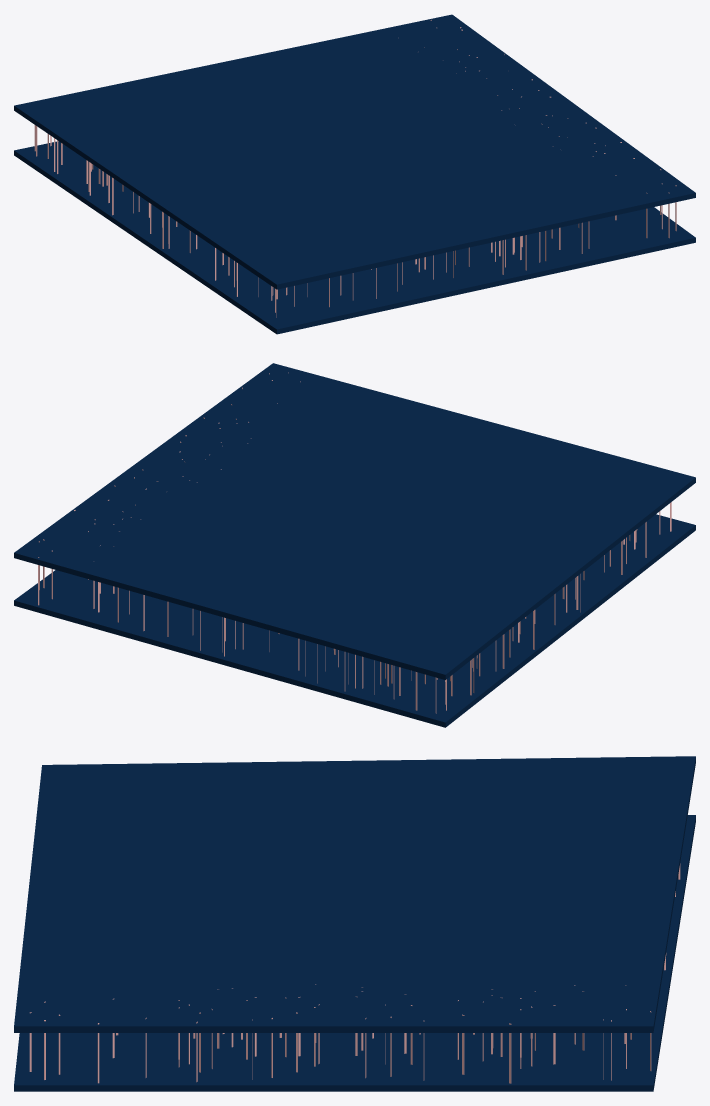
3 views of the same model, one above another, from view 1: azimuth 30°, elevation 25°; view 2: azimuth 150°, elevation 25°; view 3: azimuth 270°, elevation 25° (orthographic). The views are drawn at different scales.
Parts seen in each view (by area): view 1: ceiling, floor, Columns; view 2: ceiling, floor, Columns; view 3: ceiling, floor, Columns.
Boxes of the visible parts, left/top/right/bottom form: ceiling: left=14, top=14, right=695, bottom=289; floor: left=14, top=141, right=695, bottom=334; Columns: left=34, top=20, right=676, bottom=317; ceiling: left=14, top=363, right=695, bottom=679; floor: left=14, top=514, right=695, bottom=727; Columns: left=38, top=372, right=671, bottom=713; ceiling: left=14, top=756, right=695, bottom=1032; floor: left=14, top=815, right=695, bottom=1091; Columns: left=29, top=863, right=680, bottom=1083.
Size of the model in its own units: 4435 by 509 by 4730.
